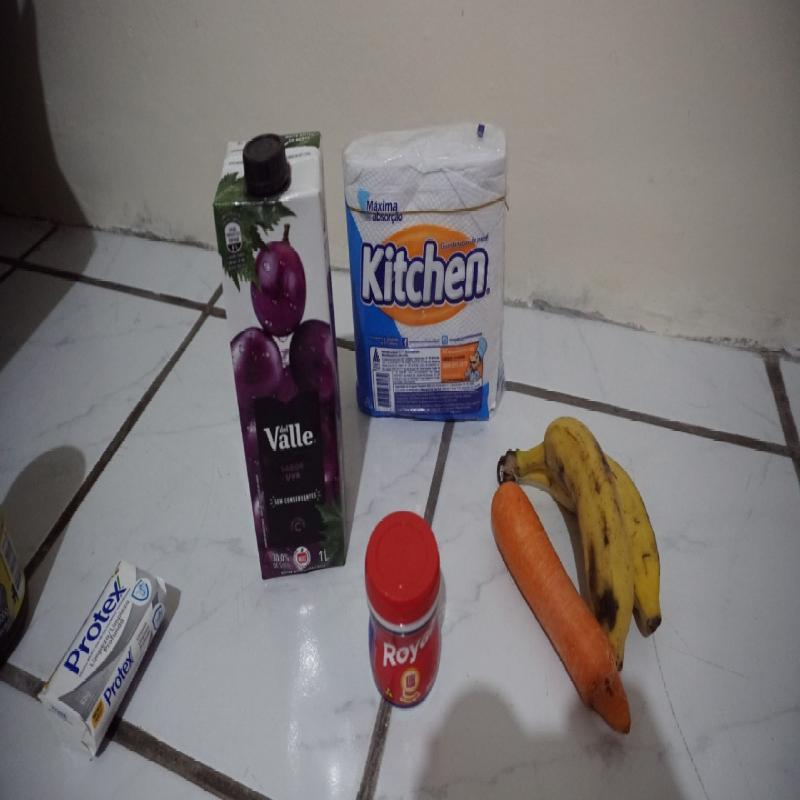Banana: (494, 415, 665, 672)
Carrot: (490, 481, 634, 736)
Chocolate Powder: (0, 495, 33, 665)
Napkin: (339, 120, 511, 422)
Soap: (36, 558, 170, 759)
Yeast: (364, 508, 443, 714)
